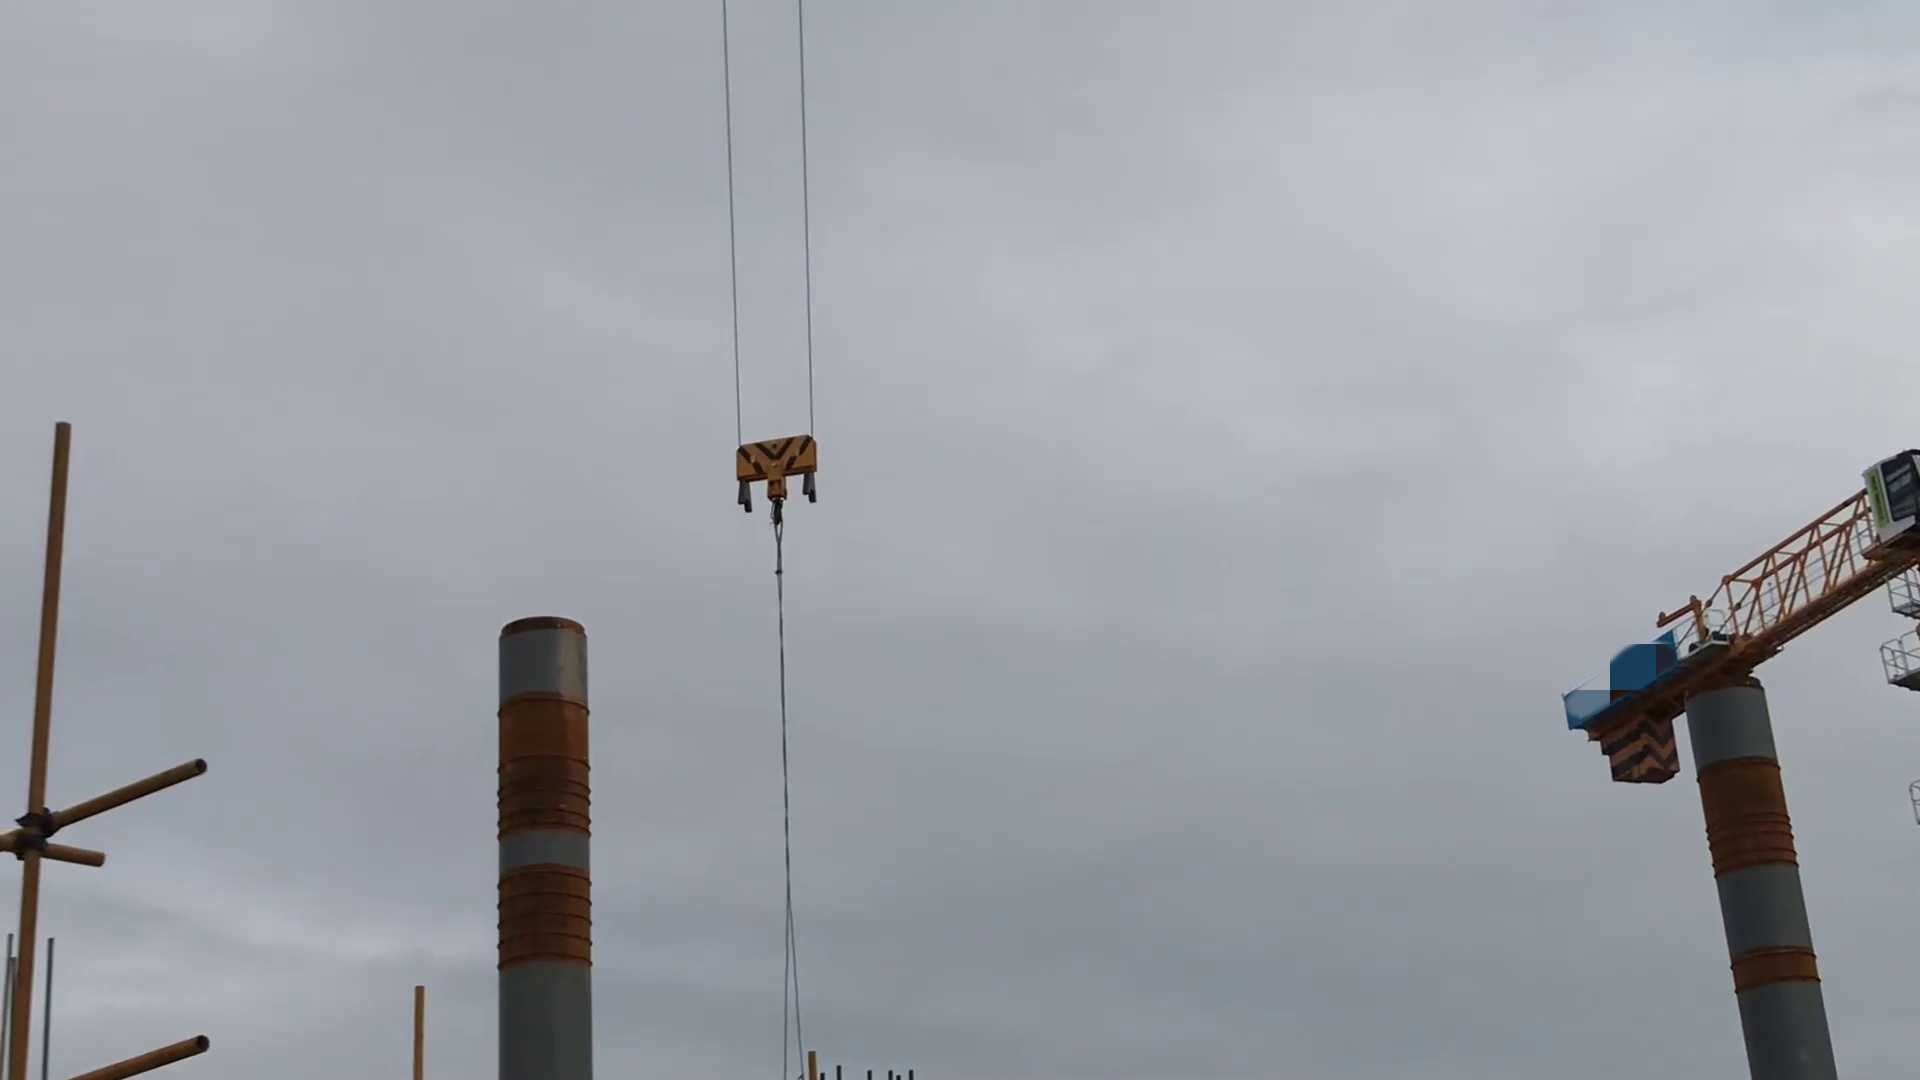hook: (717, 436, 828, 524)
